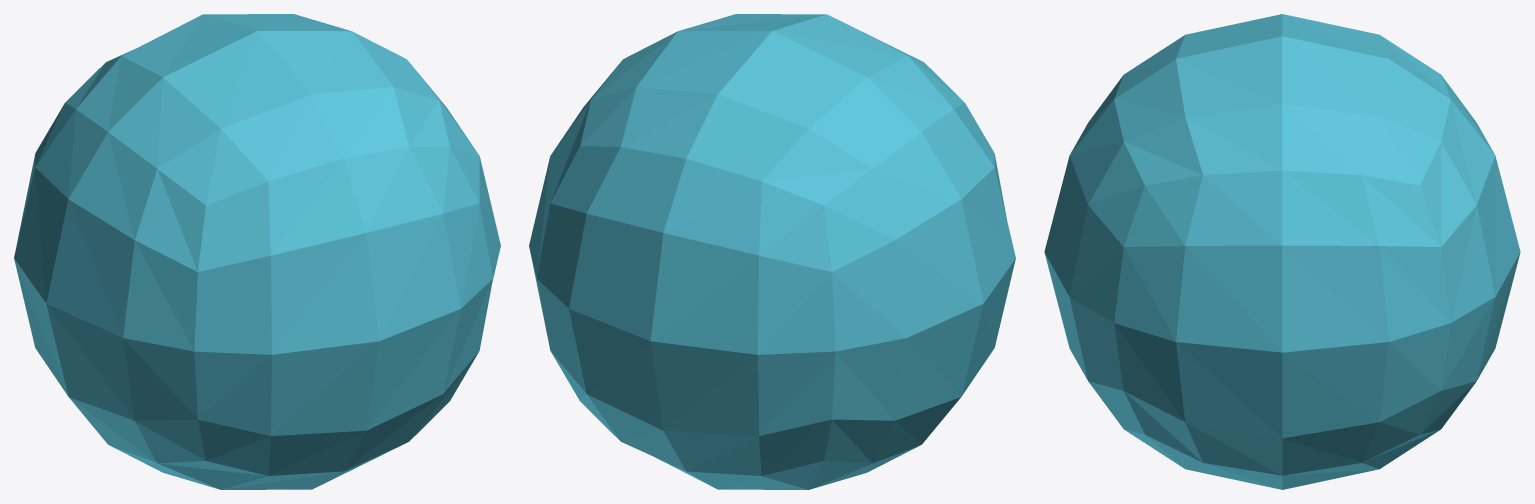
The model's file is curved_quad_sphere.glb.
The picture shows the model from 3 angles, left to right: view 1: azimuth 30°, elevation 25°; view 2: azimuth 150°, elevation 25°; view 3: azimuth 270°, elevation 25°; orthographic projection. The views are drawn at different scales.
Parts seen in each view (by area): view 1: Curved quad sphere; view 2: Curved quad sphere; view 3: Curved quad sphere.
Boxes of the visible parts, box(x1,y1,x2,y2) form: Curved quad sphere: box(14, 14, 500, 489); Curved quad sphere: box(529, 14, 1015, 489); Curved quad sphere: box(1044, 14, 1520, 489).
Bounding box in the file's own units: 2 × 2 × 2.
